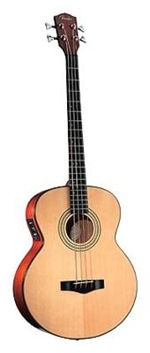guitar: (12, 14, 138, 339)
